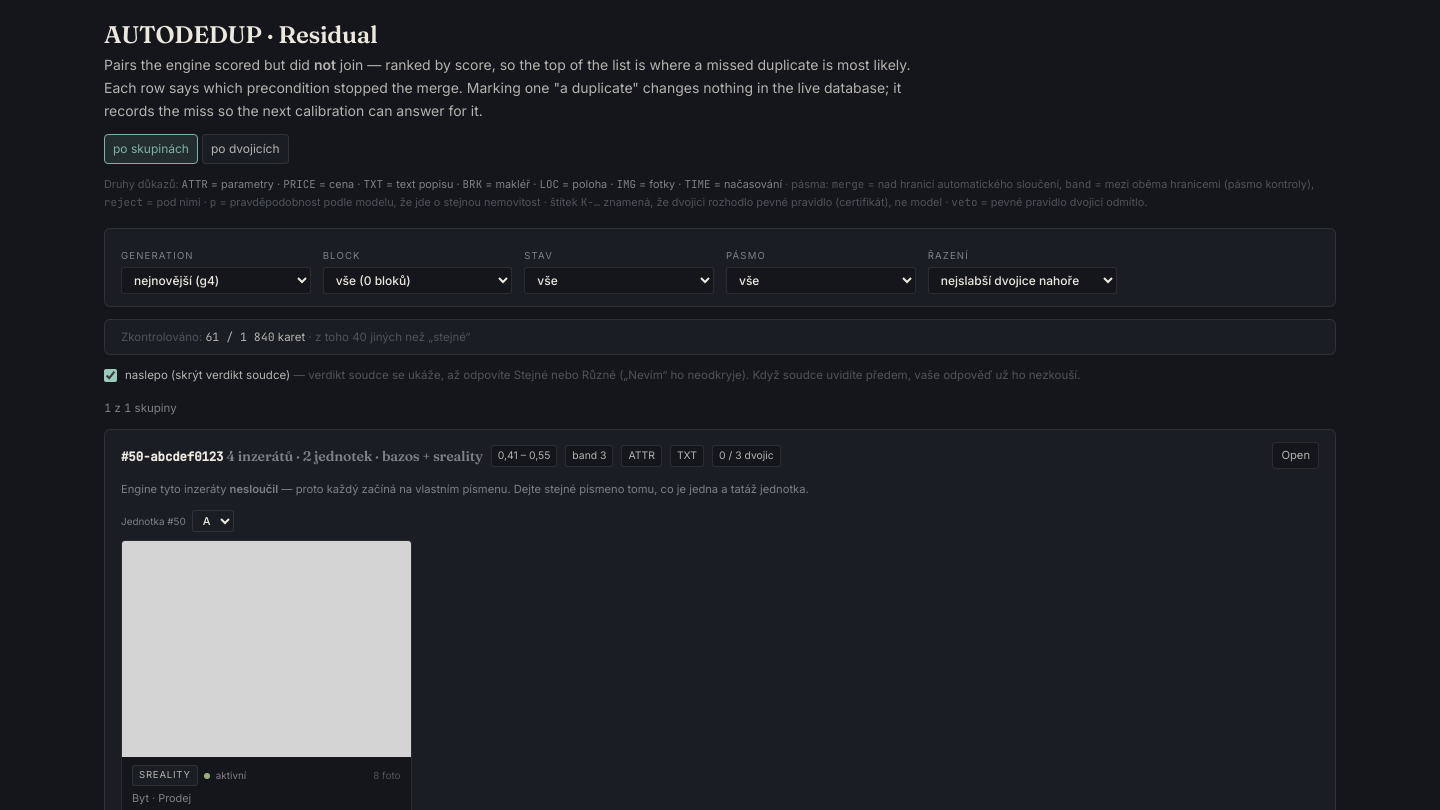
Scenario: <AutodedupResidual> · po skupinách › opens the drawer's judge pair by pair, and never on a "Nevím"
The image size is (1440, 810).
Step 1. Click the button "Open" → point(1296, 456), box [1272,442,1319,469]
(page scrolled)
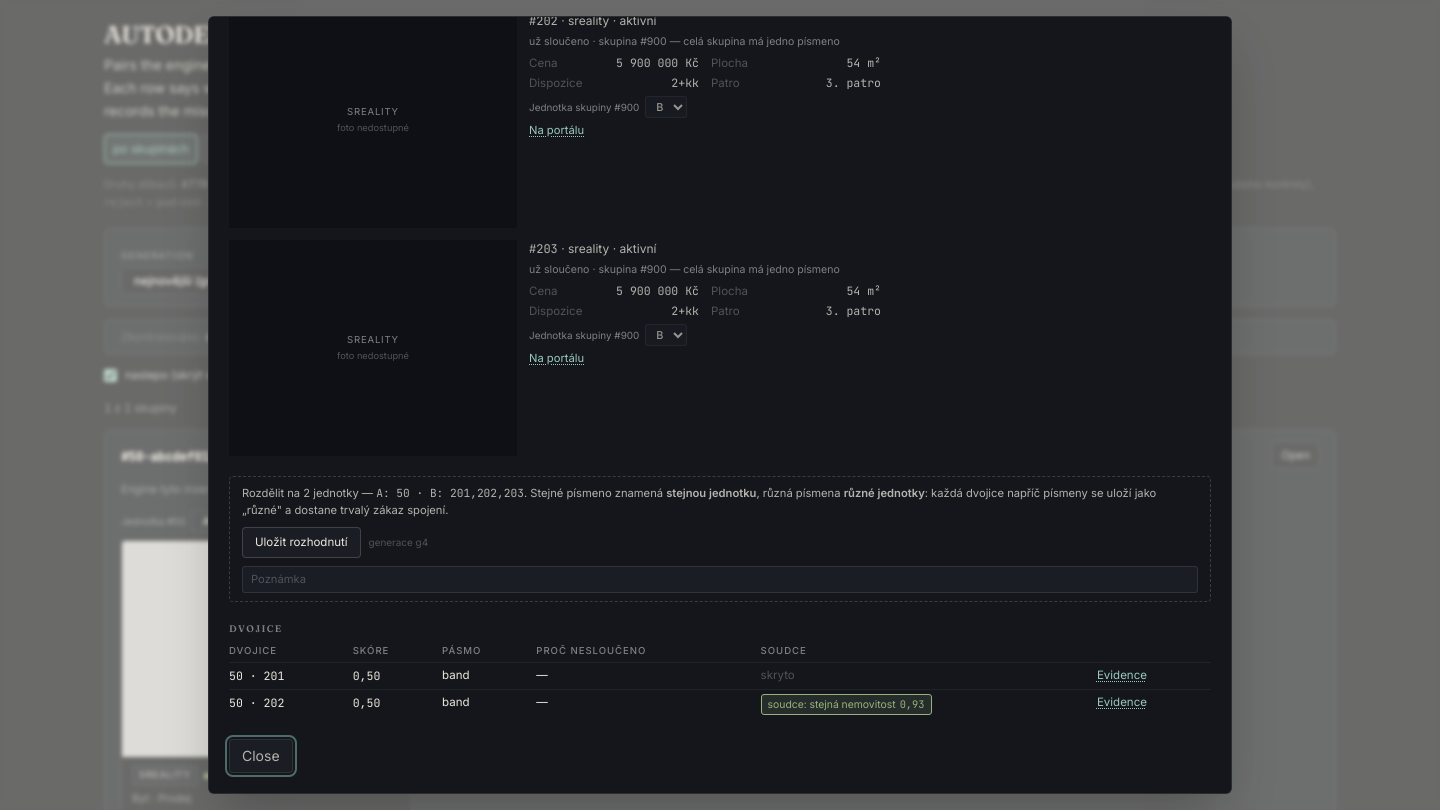
Expected: the text "skryto" is shown, [761,668,795,682]
Expected: the text "soudce: stejná nemovitost 0,93" is shown, [761,694,932,715]
